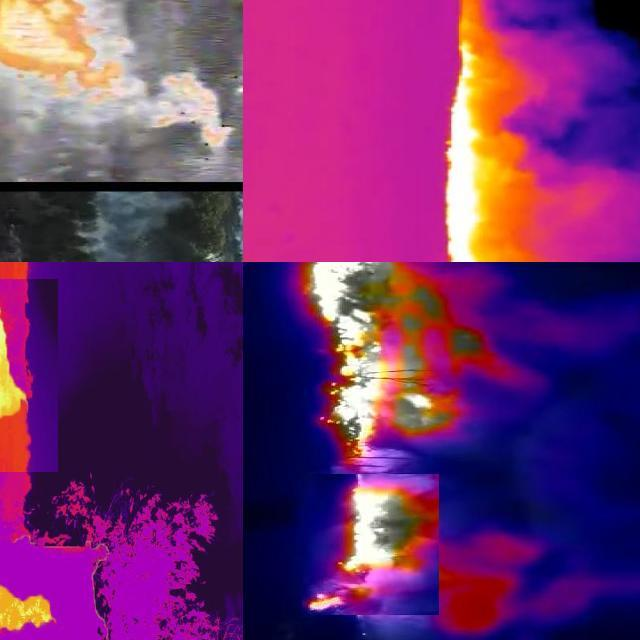fire: (302, 263, 486, 472), (439, 9, 581, 263), (1, 1, 238, 147), (302, 474, 440, 615), (1, 489, 91, 640), (1, 279, 59, 472)
